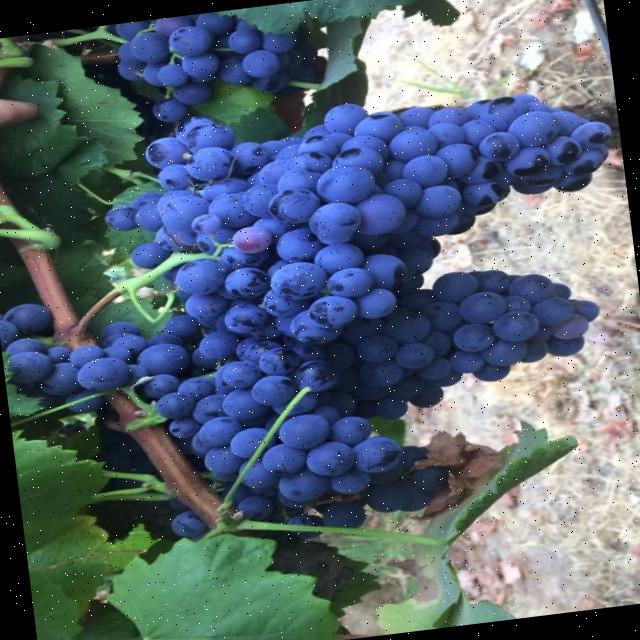grape: (8, 93, 611, 525), (193, 358, 405, 517), (115, 12, 265, 118)
